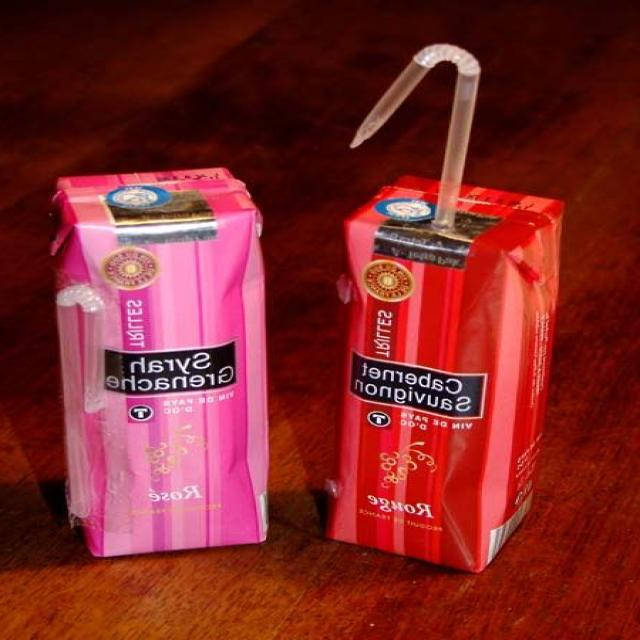cardboard: (325, 46, 558, 584), (32, 160, 291, 555)
